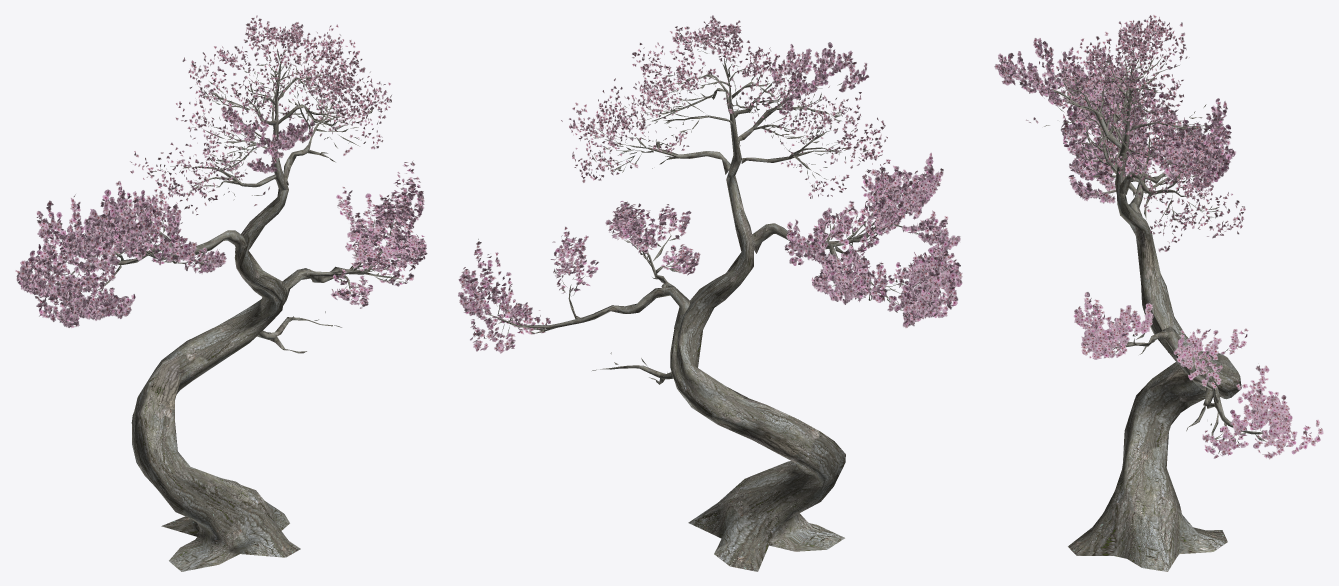
The model's file is CherryBlossom-tree.glb.
The picture shows the model from 3 angles, left to right: view 1: azimuth 30°, elevation 25°; view 2: azimuth 150°, elevation 25°; view 3: azimuth 270°, elevation 25°; orthographic projection. The views are drawn at different scales.
Parts seen in each view (by area): view 1: tree; view 2: tree; view 3: tree.
Part boxes in pixels (x1,y1,x2,y2): tree: (15,15,427,571); tree: (458,15,962,571); tree: (994,15,1323,571).
Bounding box in the file's own units: 0.1994 × 0.2189 × 0.1203.
Materials: 2 (2 with a texture image).
